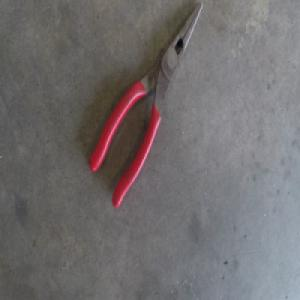Pliers: (88, 1, 202, 204)
